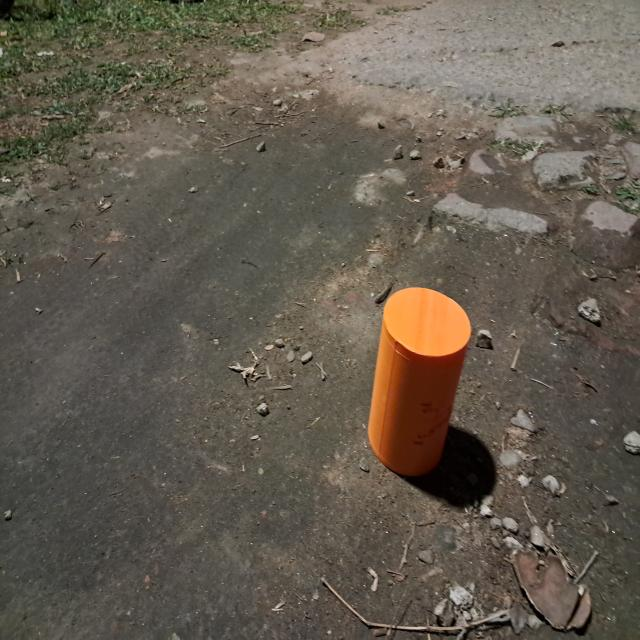Cylinder: (366, 286, 472, 478)
